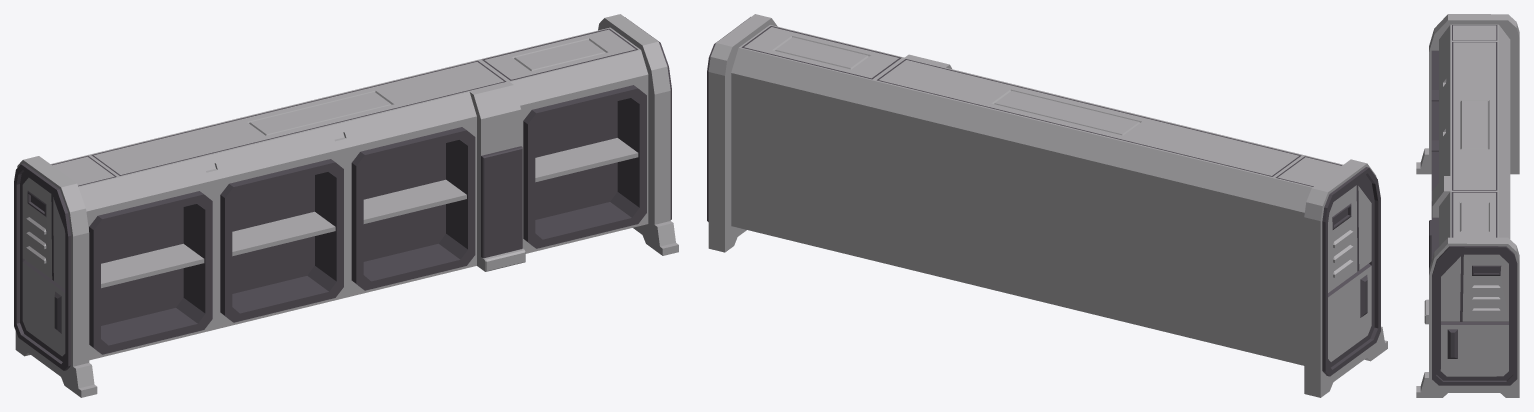
File: SM_Props_Laboratory_04.fbx
3 renders of one model, left to right at view 1: azimuth 30°, elevation 25°; view 2: azimuth 150°, elevation 25°; view 3: azimuth 270°, elevation 25°, orthographic. The views are drawn at different scales.
Parts seen in each view (by area): view 1: SM_Props_Laboratory_04; view 2: SM_Props_Laboratory_04; view 3: SM_Props_Laboratory_04.
Part boxes in pixels (x1,y1,x2,y2): SM_Props_Laboratory_04: [14, 14, 678, 397]; SM_Props_Laboratory_04: [707, 14, 1387, 397]; SM_Props_Laboratory_04: [1416, 14, 1519, 397].
Bounding box in the file's own units: 2.68 × 0.829 × 0.504.
